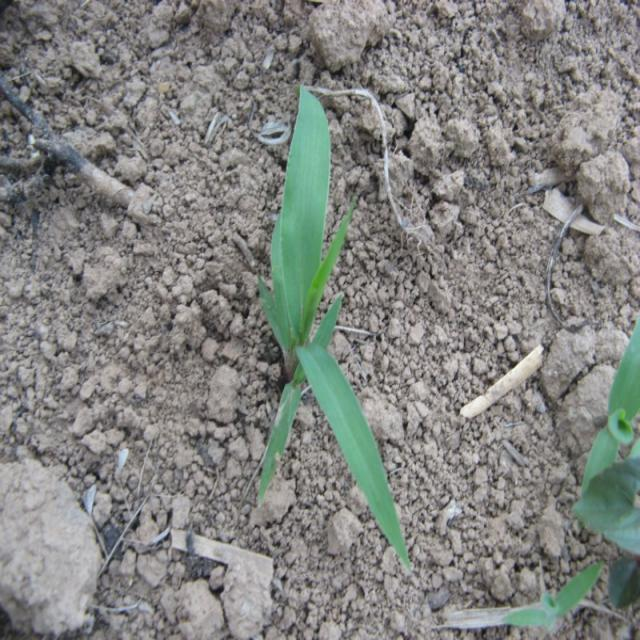bg: (244, 91, 412, 560)
